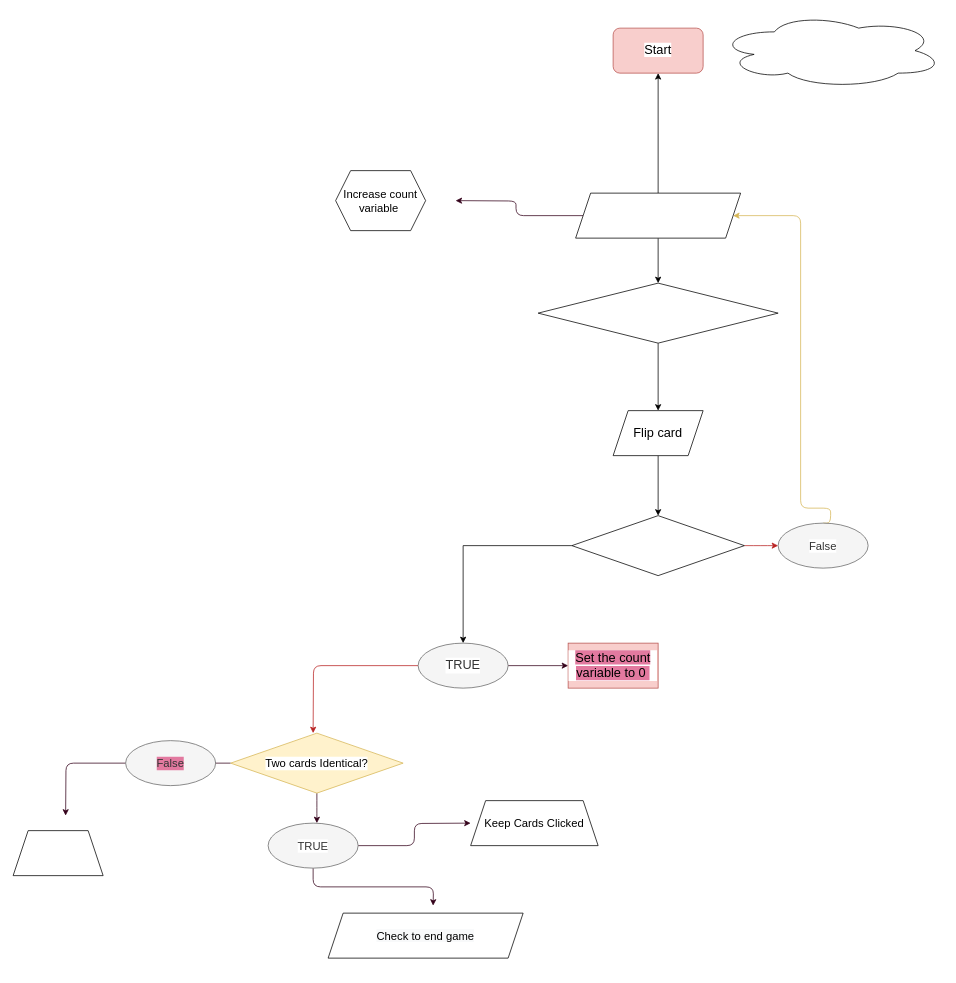
Image size: 956x983. Some labels were removed from this diagram. The shapes that lost their labels are listed below. From the top down, each one's box as (x1, y1, x2, y2) in pixels, then its label:
(717, 12, 943, 88): Create a variable than counts when we flip cards
(575, 192, 741, 238): User Clicks on card
(537, 282, 778, 343): Not more than 1 card clicked?
(571, 515, 744, 576): 2 card clicked?
(12, 830, 103, 876): Flip back the cards
